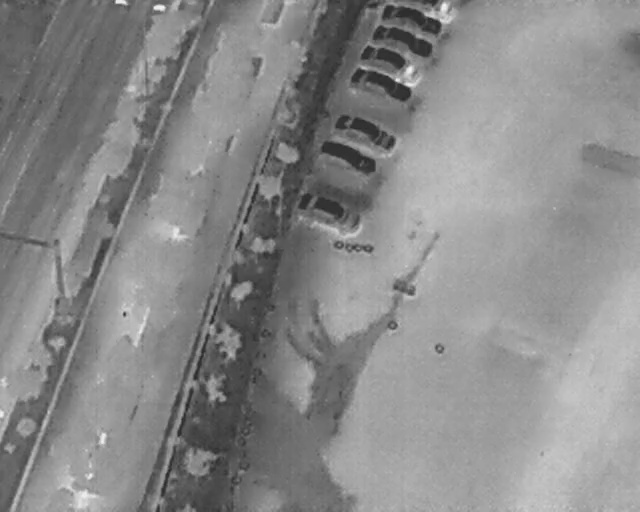Car: (288, 184, 366, 238), (313, 131, 385, 183), (331, 105, 403, 157), (345, 60, 418, 109), (354, 36, 424, 86), (368, 17, 438, 64), (379, 1, 447, 41), (403, 0, 456, 23)
